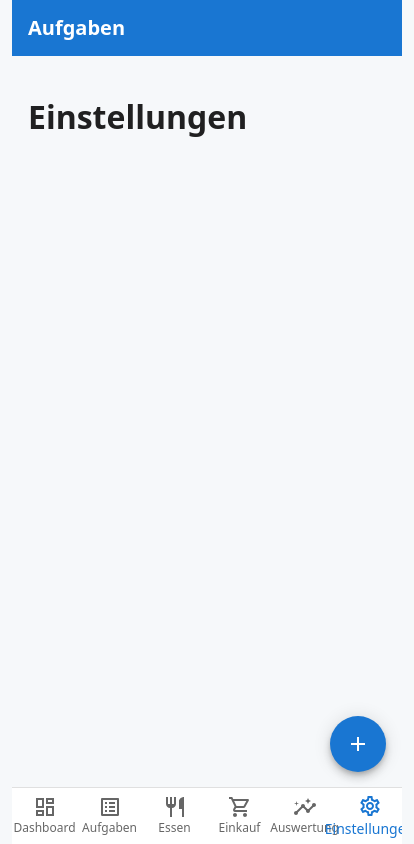
Test: mobile navigation › navigates to the Quick Add on „Aufgaben“ from other pages
Click the button named "Aufgabe schnell anlegen" at (358, 744), box [330,716,386,772]
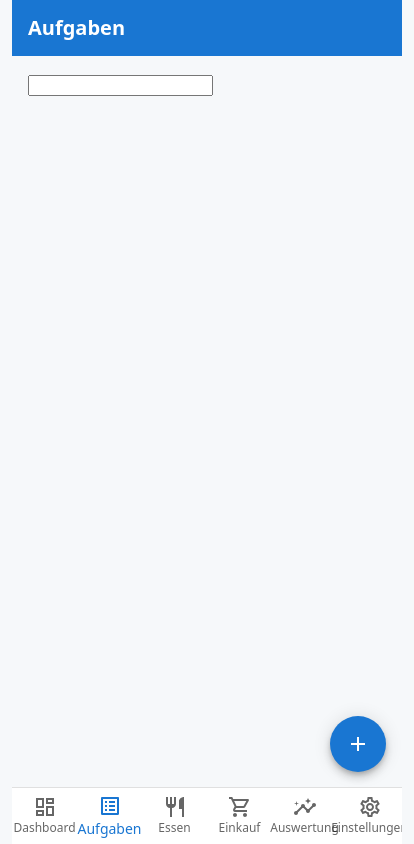
Check: the field named "Quick Add" is shown, box [28,75,213,96]
